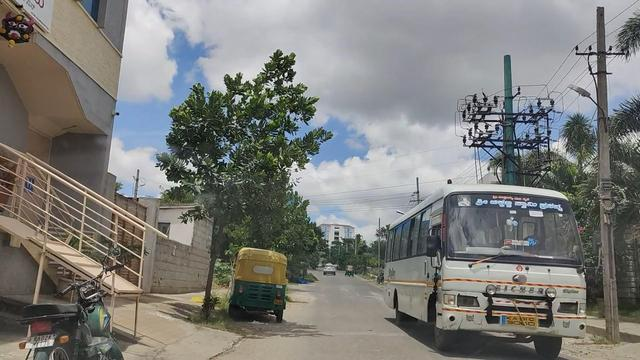HMV: (381, 181, 591, 360)
